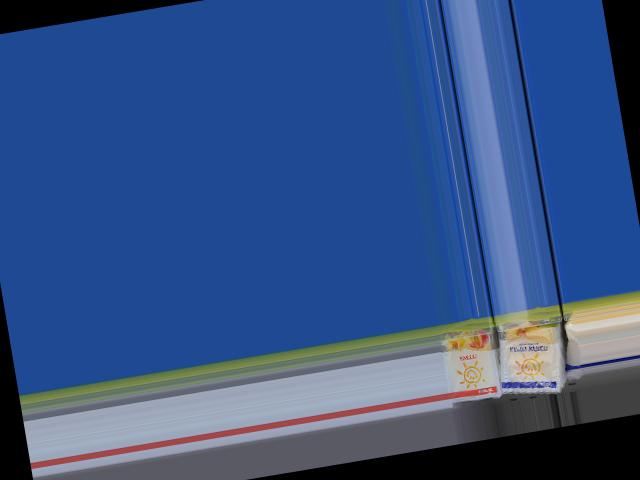cheese: (435, 316, 503, 409)
